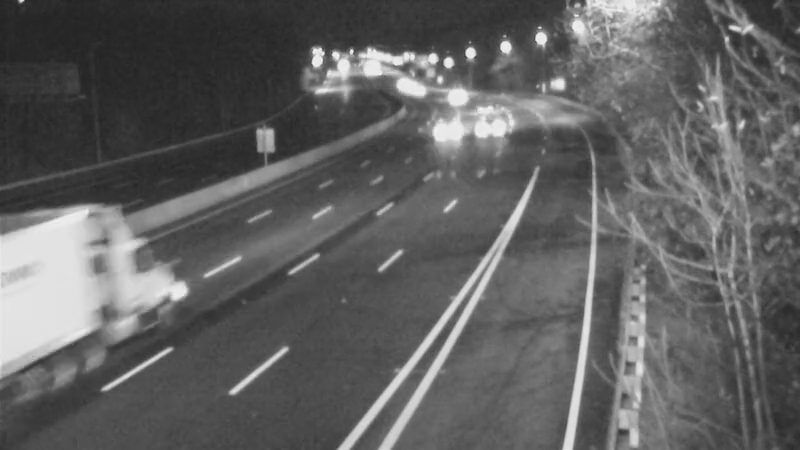vehicle: (14, 246, 124, 356), (370, 59, 420, 109), (399, 69, 449, 119), (425, 70, 475, 120), (458, 85, 508, 135), (471, 104, 521, 154), (424, 103, 474, 153)
